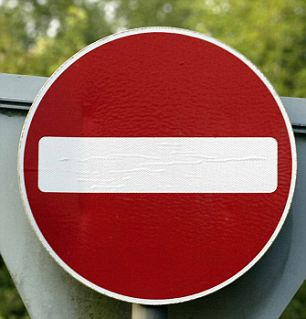No_entry: (17, 26, 298, 304)
